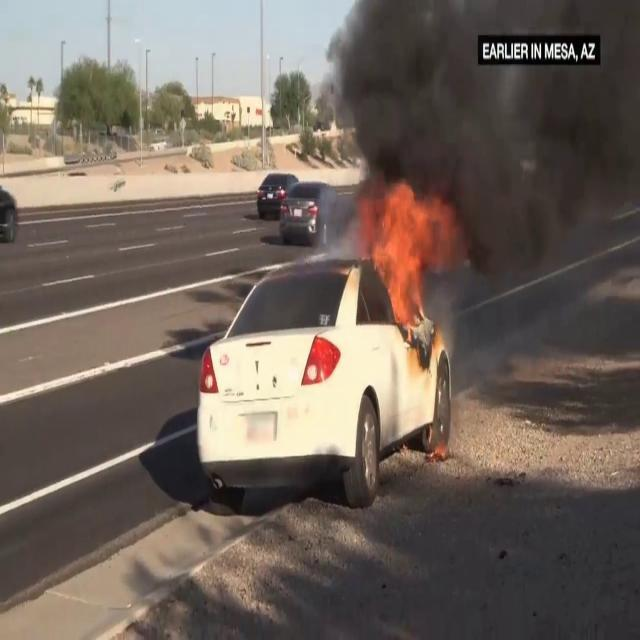Fire: (360, 182, 454, 331)
Smoke: (312, 0, 640, 359)
